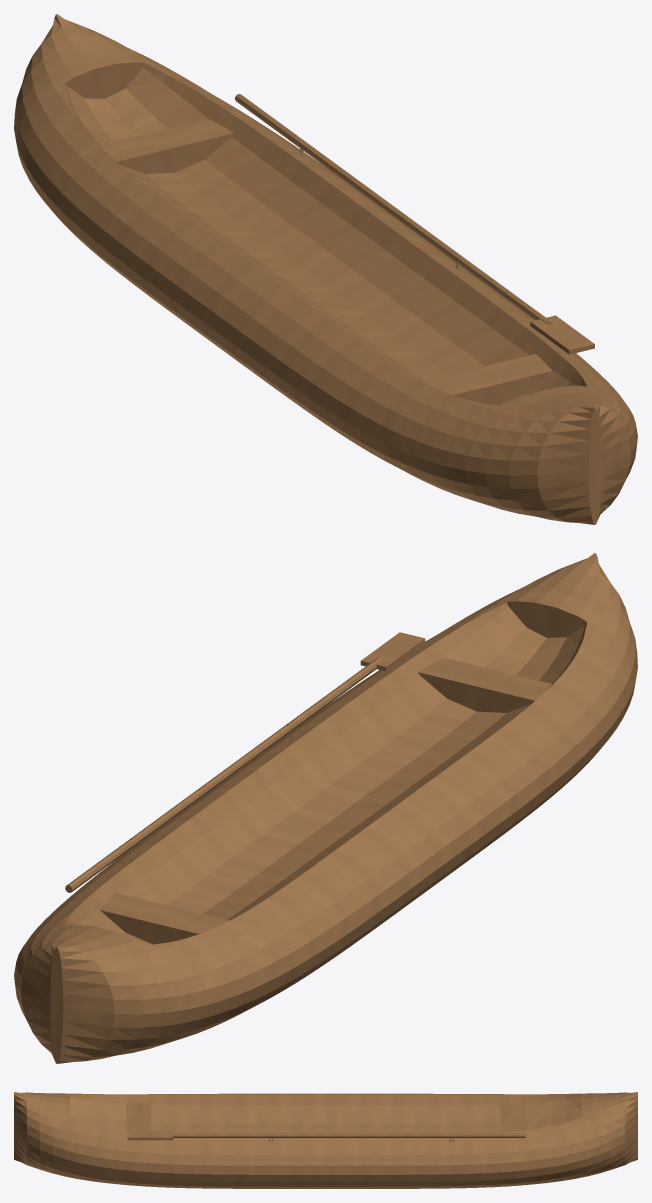
File: ship.glb
3 views of the same model, one above another, from view 1: azimuth 30°, elevation 25°; view 2: azimuth 150°, elevation 25°; view 3: azimuth 270°, elevation 25° (orthographic). The views are drawn at different scales.
Parts seen in each view (by area): view 1: hollowed_log_line, paddle_shaft, paddle_blade; view 2: hollowed_log_line, paddle_shaft, paddle_blade; view 3: hollowed_log_line, paddle_shaft, paddle_blade.
Part boxes in pixels (x1,y1,x2,y2): hollowed_log_line: (14, 14, 637, 524); paddle_shaft: (234, 94, 553, 324); paddle_blade: (530, 315, 594, 354); hollowed_log_line: (14, 553, 637, 1063); paddle_shaft: (65, 656, 383, 892); paddle_blade: (360, 632, 425, 671); hollowed_log_line: (14, 1092, 637, 1188); paddle_shaft: (163, 1133, 525, 1137); paddle_blade: (127, 1130, 172, 1140).
Size of the model in its own units: 1.4 by 0.8052 by 5.5.
Materials: 2 (2 with a texture image).
